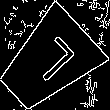L_SW: (20, 34, 77, 91)
